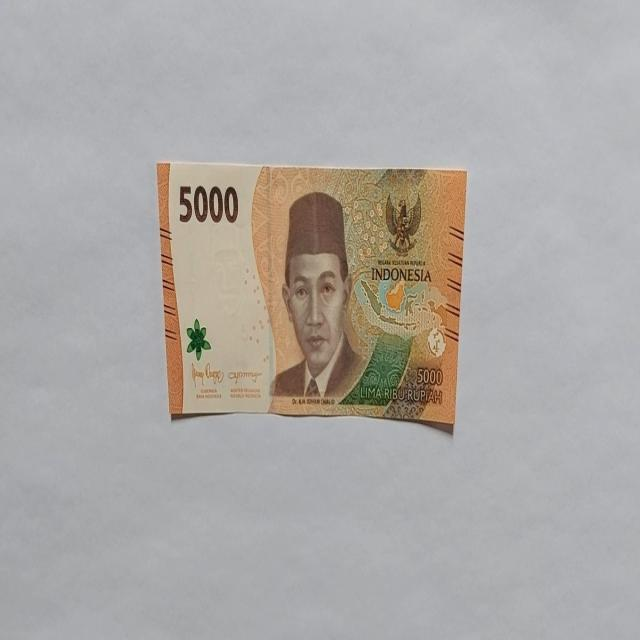lima ribu rupiah: (156, 159, 468, 432), (270, 190, 368, 403)
